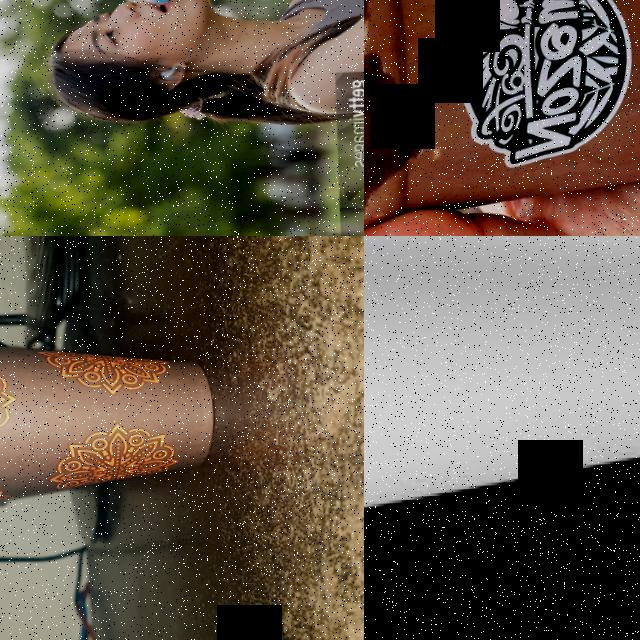cup: (364, 236, 640, 555), (364, 0, 640, 236), (0, 328, 224, 510)
